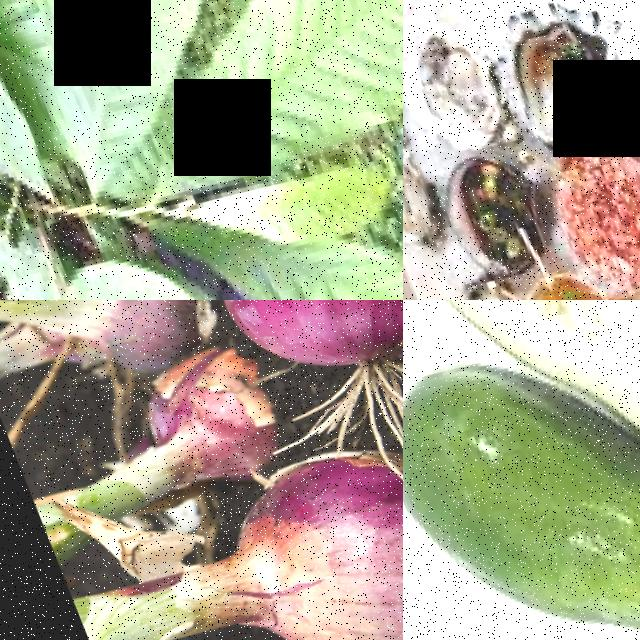onion: (197, 397, 403, 640), (191, 300, 403, 407)
oysters: (468, 0, 640, 152), (403, 0, 516, 165), (403, 75, 455, 262), (409, 265, 535, 300)
pawpaw: (403, 300, 640, 640), (403, 300, 640, 468)
